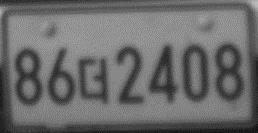0: (181, 42, 211, 102)
2: (114, 44, 145, 106)
4: (146, 44, 180, 103)
6: (46, 47, 76, 105)
8: (212, 42, 245, 103), (14, 47, 43, 105)
더: (76, 56, 111, 105)
